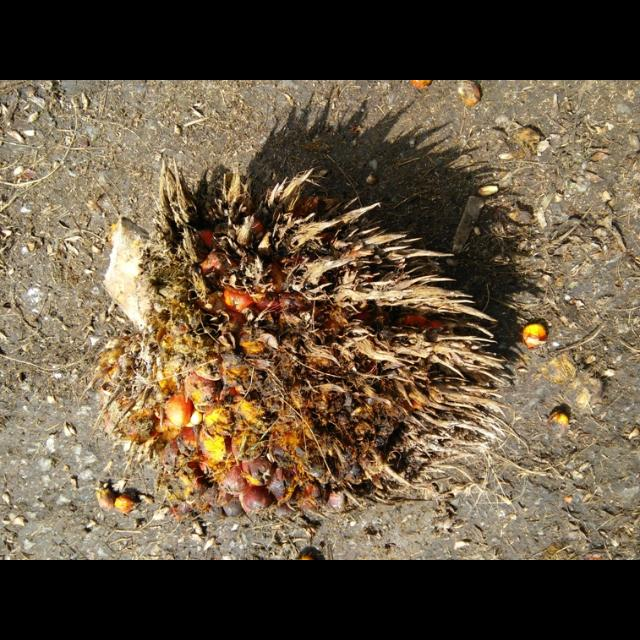Overripe: (100, 191, 486, 515)
